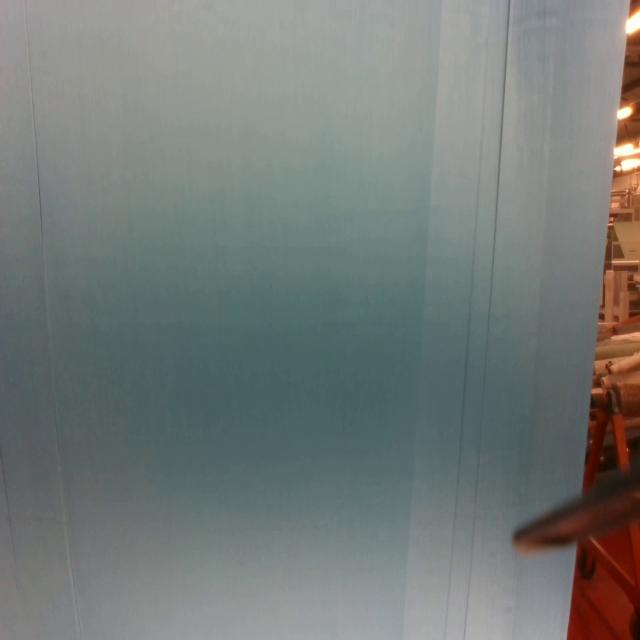crease: (401, 0, 513, 640), (21, 1, 83, 639), (0, 443, 19, 591)
